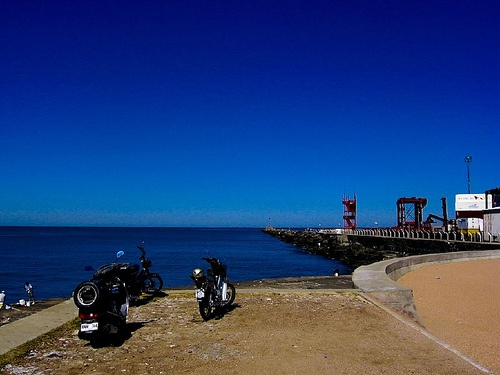non-vehicle: (73, 250, 129, 348), (191, 250, 235, 320), (123, 239, 163, 300)
